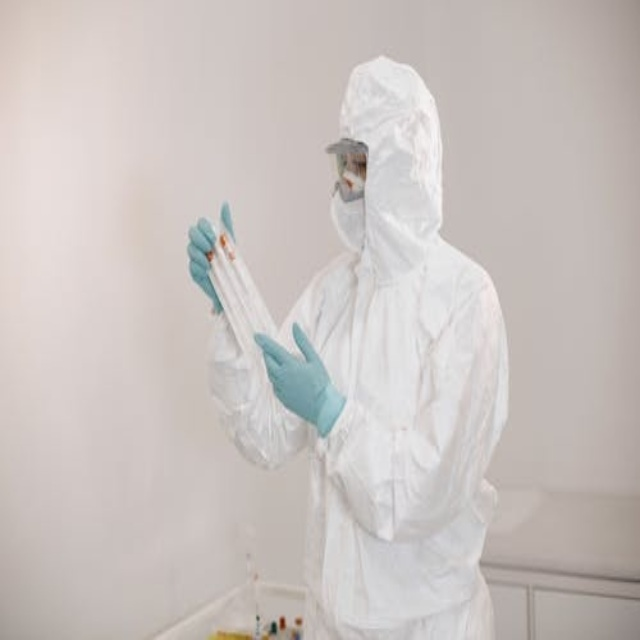Gafas: (327, 143, 367, 199)
Guantes: (255, 319, 346, 439), (189, 202, 240, 318)
Mascara: (329, 182, 366, 253)
